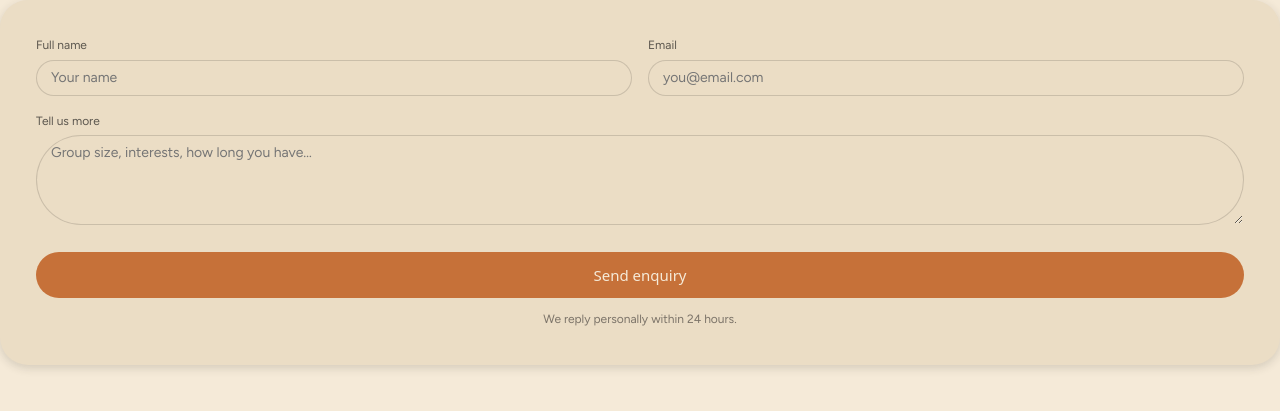
Test: GIVEN the name is filled in › WHEN the form is submitted › AND the email is not a valid address › THEN shows an email validation error and no success
Type "Ada" into the field labelled "Full name" at (334, 78), box [36,60,632,96]
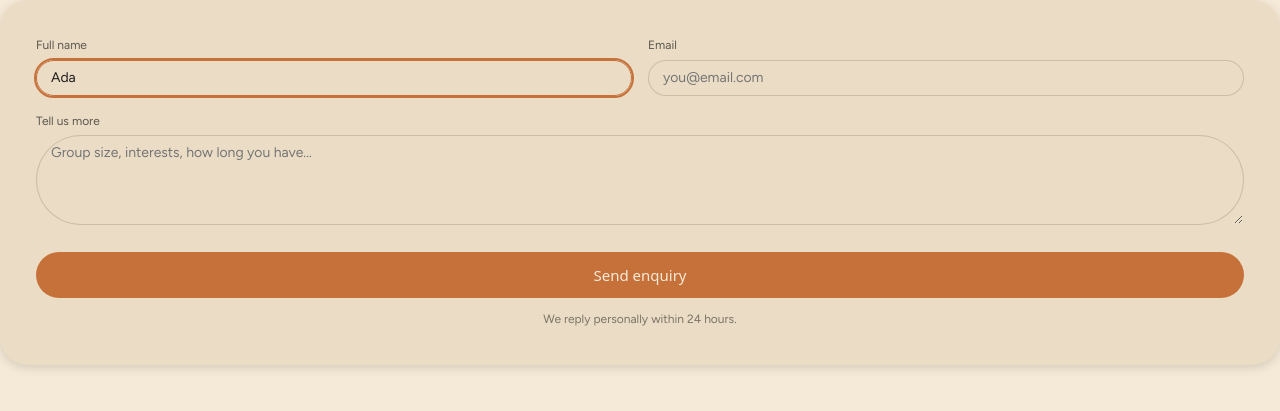
Type "not-an-email" into the field labelled "Email" at (946, 78), box [648,60,1244,96]
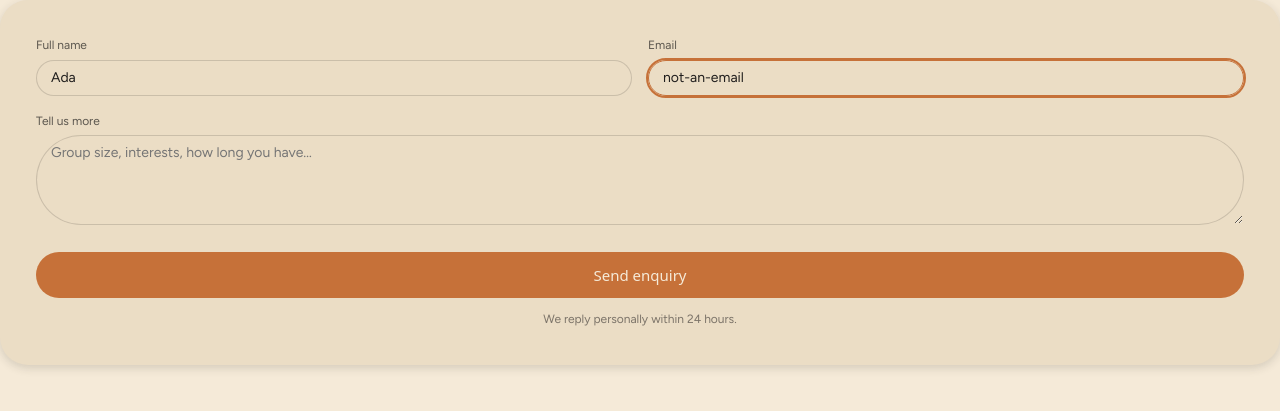
Click the button "Send enquiry" at (640, 275), box [36,252,1244,298]
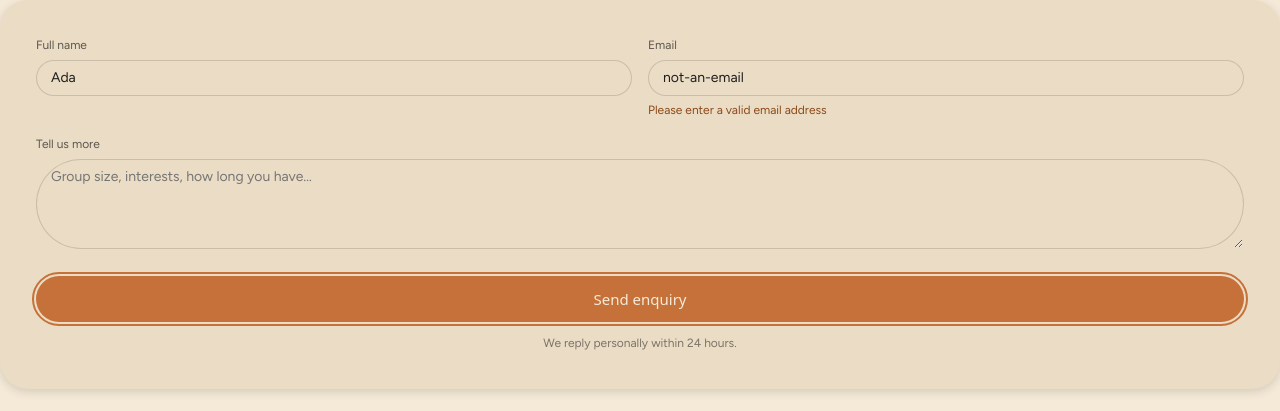
expect the text "Please enter a valid email address" is shown: met, box [648,103,827,117]
